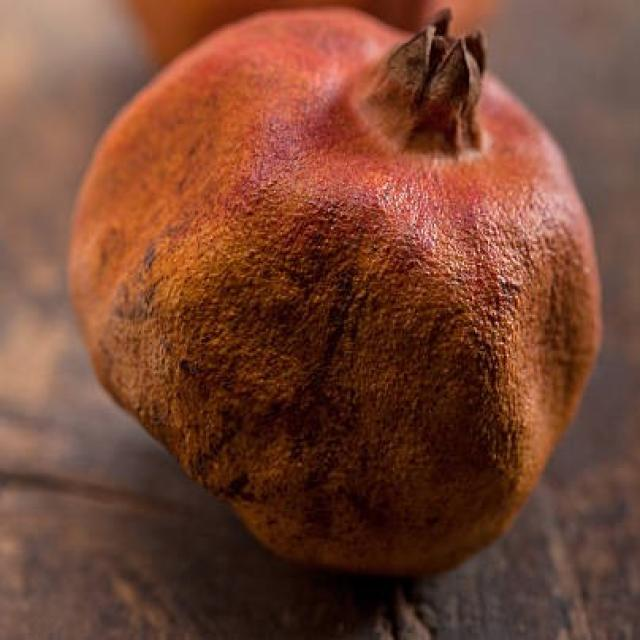overripe: (69, 0, 606, 581)
